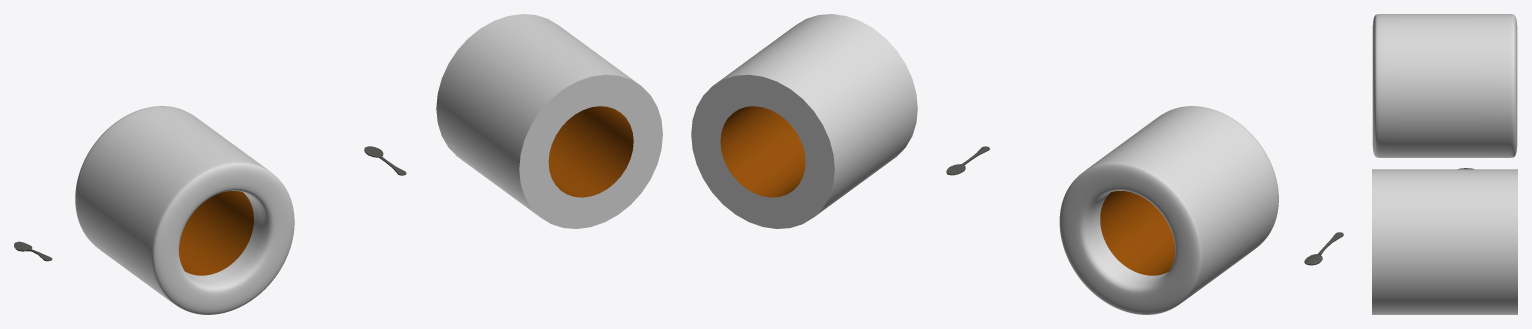
File: Rollnspoon.fbx
3 views of the same model, side by side, from view 1: azimuth 30°, elevation 25°; view 2: azimuth 150°, elevation 25°; view 3: azimuth 270°, elevation 25° (orthographic). The views are drawn at different scales.
Visible parts, largest first — view 1: Cylinder, Cylinder.001; view 2: Cylinder, Cylinder.001; view 3: Cylinder, Cylinder.001.
Part boxes in pixels (bbox=[...]): Cylinder: bbox=[436, 14, 662, 228]; Cylinder.001: bbox=[75, 106, 294, 314]; Cylinder: bbox=[691, 14, 917, 228]; Cylinder.001: bbox=[1059, 106, 1278, 314]; Cylinder: bbox=[1372, 169, 1517, 314]; Cylinder.001: bbox=[1372, 14, 1517, 157].
Bounding box in the file's own units: 1984 × 478 × 478.
